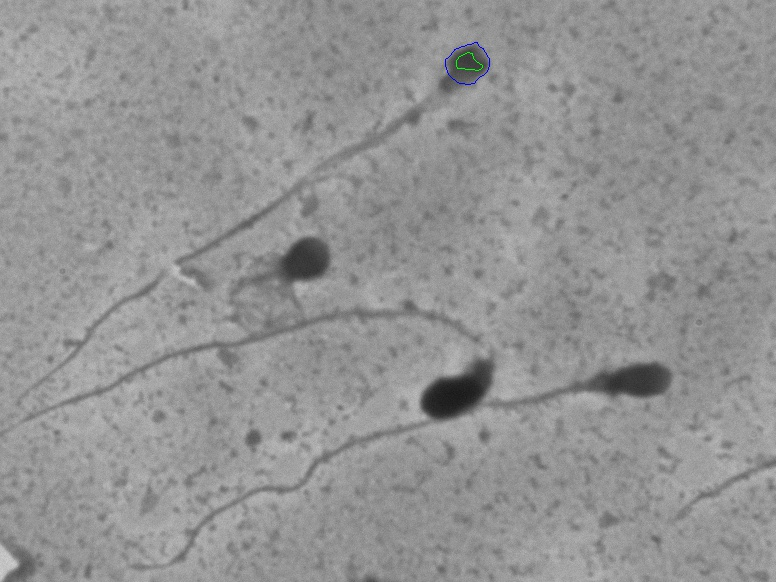Abnormal: (14, 289, 516, 424), (539, 308, 695, 453), (215, 223, 348, 333)
